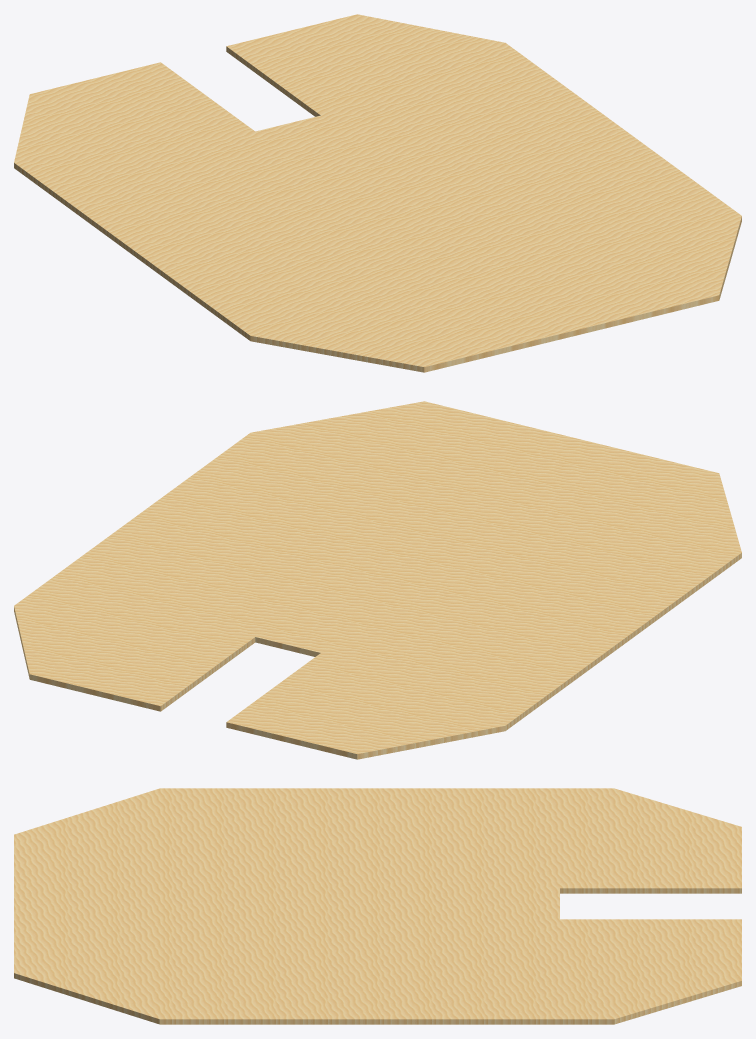
Rendered from seabed-17-DZPH-Vo1.glb.
The picture shows the model from 3 angles, top to bottom: view 1: azimuth 30°, elevation 25°; view 2: azimuth 150°, elevation 25°; view 3: azimuth 270°, elevation 25°; orthographic projection. The views are drawn at different scales.
Parts seen in each view (by area): view 1: SW_SandShelf; view 2: SW_SandShelf; view 3: SW_SandShelf.
Boxes of the visible parts, x1,y1,x2,y2 form: SW_SandShelf: (14, 14, 741, 372); SW_SandShelf: (14, 401, 741, 759); SW_SandShelf: (14, 788, 741, 1024).
Size of what is drawn, in the model's own units: 30 by 0.32 by 40.
Materials: 1 (1 with a texture image).
